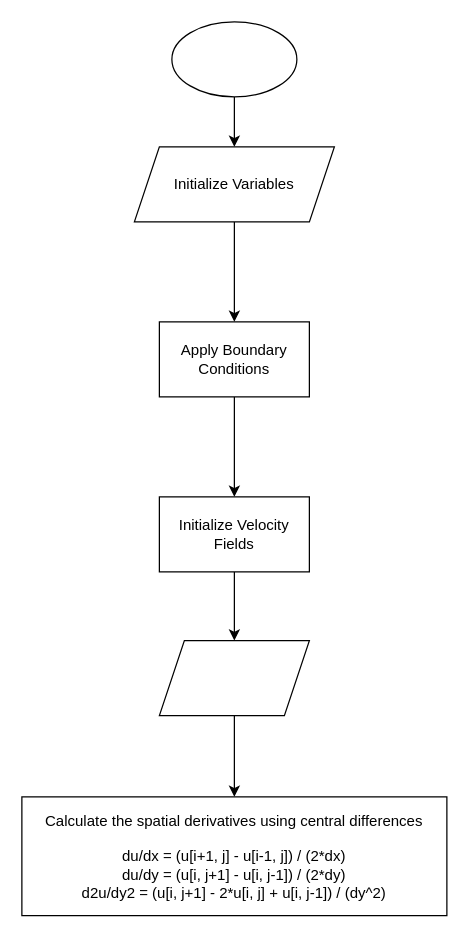
This 469x938 diagram has some shape labels left out. The shapes that lost their labels are listed below. From the top down, each one's centre as x and y in pixels, then its label:
point (234, 59): Start
point (233, 677): Iterate until convergence
